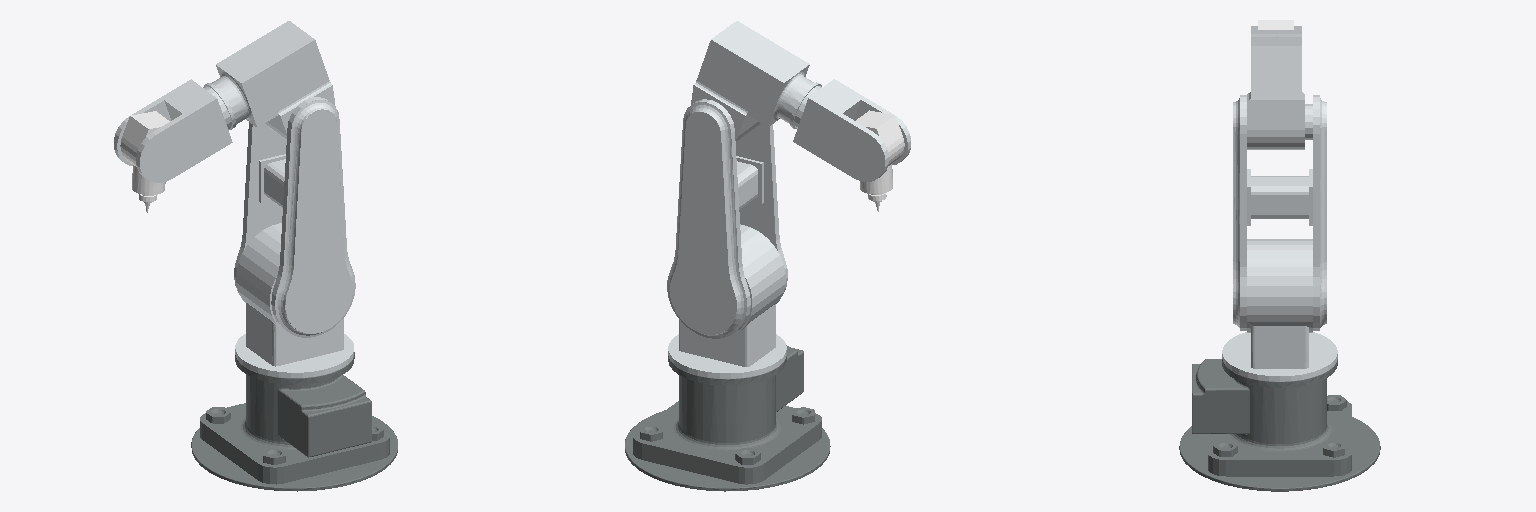
URDF robot description (assembly):
<?xml version="1.0" encoding="utf-8" ?>
<!-- This URDF was automatically created by SolidWorks to URDF Exporter! Originally created by [author] ([email redacted]) 
     Commit Version: 1.6.0-4-g7f85cfe  Build Version: 1.6.7995.38578
     For more information, please see http://wiki.ros.org/sw_urdf_exporter -->
<robot name="assembly">
    <link name="world" />
    <joint name="base_joint" type="fixed">
        <parent link="world" />
        <child link="base_link" />
        <origin rpy="0 0 0" xyz="0.0 0.0 0.17" />
    </joint>
    <link name="base_link">
        <inertial>
            <origin xyz="7.28821085427267E-09 -0.0312986108746524 0.0932096931732312" rpy="0 0 0" />
            <mass value="156.384128910965" />
            <inertia ixx="3.31161275817224" ixy="1.76037861498254E-07" ixz="4.56149719410909E-07" iyy="2.65331734095352" iyz="0.319657739922467" izz="3.8905939609168" />
        </inertial>
        <visual>
            <origin xyz="0 0 0" rpy="0 0 0" />
            <geometry>
                <mesh filename="package://assembly/meshes/base_link.STL" />
            </geometry>
            <material name="">
                <color rgba="0.529411764705882 0.549019607843137 0.549019607843137 1" />
            </material>
        </visual>
        <collision>
            <origin xyz="0 0 0" rpy="0 0 0" />
            <geometry>
                <mesh filename="package://assembly/meshes/base_link.STL" />
            </geometry>
        </collision>
    </link>
    <link name="link_1">
        <inertial>
            <origin xyz="1.56254648109311E-10 -7.8860200028437E-16 0.373075746734315" rpy="0 0 0" />
            <mass value="39.1896246119642" />
            <inertia ixx="0.759744390185537" ixy="-3.39614758921302E-09" ixz="3.42502037078622E-09" iyy="0.831766902274228" iyz="-5.07622894875523E-17" izz="0.295622833052641" />
        </inertial>
        <visual>
            <origin xyz="0 0 0" rpy="0 0 0" />
            <geometry>
                <mesh filename="package://assembly/meshes/link_1.STL" />
            </geometry>
            <material name="">
                <color rgba="0.898039215686275 0.917647058823529 0.929411764705882 1" />
            </material>
        </visual>
        <collision>
            <origin xyz="0 0 0" rpy="0 0 0" />
            <geometry>
                <mesh filename="package://assembly/meshes/link_1.STL" />
            </geometry>
        </collision>
    </link>
    <joint name="joint_1" type="revolute">
        <origin xyz="0 0 0" rpy="0 0 0" />
        <parent link="base_link" />
        <child link="link_1" />
        <axis xyz="0 0 1" />
        <limit lower="-3.142" upper="3.142" effort="300" velocity="3" />
    </joint>
    <link name="link_2">
        <inertial>
            <origin xyz="0 0.191560014270782 -4.38296331717335E-18" rpy="0 0 0" />
            <mass value="41.7432461481157" />
            <inertia ixx="1.9310205220817" ixy="-1.83315611639491E-16" ixz="4.05786478180328E-12" iyy="0.423793811309006" iyz="7.07949256278302E-17" izz="1.67596873799866" />
        </inertial>
        <visual>
            <origin xyz="0 0 0" rpy="0 0 0" />
            <geometry>
                <mesh filename="package://assembly/meshes/link_2.STL" />
            </geometry>
            <material name="">
                <color rgba="0.898039215686275 0.917647058823529 0.929411764705882 1" />
            </material>
        </visual>
        <collision>
            <origin xyz="0 0 0" rpy="0 0 0" />
            <geometry>
                <mesh filename="package://assembly/meshes/link_2.STL" />
            </geometry>
        </collision>
    </link>
    <joint name="joint_2" type="revolute">
        <origin xyz="0 0 0.496" rpy="1.5708 0 0" />
        <parent link="link_1" />
        <child link="link_2" />
        <axis xyz="0 0 1" />
        <limit lower="-1.57" upper="1.57" effort="200" velocity="3" />
    </joint>
    <link name="link_3">
        <inertial>
            <origin xyz="0.121182198441889 -0.136185998839769 -0.0100000000304142" rpy="0 0 0" />
            <mass value="32.5621952947336" />
            <inertia ixx="0.913688737120272" ixy="0.107723690437499" ixz="-1.2469518478925E-09" iyy="0.203128735188212" iyz="-2.19257304101205E-11" izz="1.00099194800661" />
        </inertial>
        <visual>
            <origin xyz="0 0 0" rpy="0 0 0" />
            <geometry>
                <mesh filename="package://assembly/meshes/link_3.STL" />
            </geometry>
            <material name="">
                <color rgba="0.898039215686275 0.917647058823529 0.929411764705882 1" />
            </material>
        </visual>
        <collision>
            <origin xyz="0 0 0" rpy="0 0 0" />
            <geometry>
                <mesh filename="package://assembly/meshes/link_3.STL" />
            </geometry>
        </collision>
    </link>
    <joint name="joint_3" type="revolute">
        <origin xyz="0 0.5 0" rpy="-3.1416 0 1.8978" />
        <parent link="link_2" />
        <child link="link_3" />
        <axis xyz="0 0 1" />
        <limit lower="-3.142" upper="0" effort="200" velocity="3" />
    </joint>
    <link name="link_4">
        <inertial>
            <origin xyz="4.894E-08 0.023871 0.01" rpy="0 0 0" />
            <mass value="2.1294" />
            <inertia ixx="0.01124" ixy="-3.2865E-09" ixz="2.2564E-09" iyy="0.0038688" iyz="8.7078E-11" izz="0.012163" />
        </inertial>
        <visual>
            <origin xyz="0 0 0" rpy="0 0 0" />
            <geometry>
                <mesh filename="package://assembly/meshes/link_4.STL" />
            </geometry>
            <material name="">
                <color rgba="1 1 1 1" />
            </material>
        </visual>
        <collision>
            <origin xyz="0 0 0" rpy="0 0 0" />
            <geometry>
                <mesh filename="package://assembly/meshes/link_4.STL" />
            </geometry>
        </collision>
    </link>
    <joint name="joint_4" type="revolute">
        <origin xyz="0.145 -0.42746 0" rpy="3.1416 0 -1.2438" />
        <parent link="link_3" />
        <child link="link_4" />
        <axis xyz="0 0 1" />
        <limit lower="-3.142" upper="0" effort="200" velocity="3" />
    </joint>
    <transmission name="link_1_trans">
        <type>transmission_interface/SimpleTransmission</type>
        <joint name="joint_1">
            <hardwareInterface>hardware_interface/PositionJointInterface</hardwareInterface>
        </joint>
        <actuator name="link_1_motor">
            <hardwareInterface>hardware_interface/PositionJointInterface</hardwareInterface>
            <mechanicalReduction>1</mechanicalReduction>
        </actuator>
    </transmission>
    <transmission name="link_2_trans">
        <type>transmission_interface/SimpleTransmission</type>
        <joint name="joint_2">
            <hardwareInterface>hardware_interface/PositionJointInterface</hardwareInterface>
        </joint>
        <actuator name="link_2_motor">
            <hardwareInterface>hardware_interface/PositionJointInterface</hardwareInterface>
            <mechanicalReduction>1</mechanicalReduction>
        </actuator>
    </transmission>
    <transmission name="link_3_trans">
        <type>transmission_interface/SimpleTransmission</type>
        <joint name="joint_3">
            <hardwareInterface>hardware_interface/PositionJointInterface</hardwareInterface>
        </joint>
        <actuator name="link_3_motor">
            <hardwareInterface>hardware_interface/PositionJointInterface</hardwareInterface>
            <mechanicalReduction>1</mechanicalReduction>
        </actuator>
    </transmission>
    <transmission name="link_4_trans">
        <type>transmission_interface/SimpleTransmission</type>
        <joint name="joint_4">
            <hardwareInterface>hardware_interface/PositionJointInterface</hardwareInterface>
        </joint>
        <actuator name="link_4_motor">
            <hardwareInterface>hardware_interface/PositionJointInterface</hardwareInterface>
            <mechanicalReduction>1</mechanicalReduction>
        </actuator>
    </transmission>
    <!-- Paso 5 -->
    <gazebo>
        <plugin name="control" filename="libgazebo_ros_control.so">
            <robotNamespace>/</robotNamespace>
        </plugin>
        <plugin name="gazebo_ros_control" filename="libgazebo_ros_control.so">
            <robotNamespace>/</robotNamespace>
        </plugin>
    </gazebo>
    <!-- Paso 6 -->
    <gazebo reference="link_1">
        <selfCollide>true</selfCollide>
    </gazebo>
    <gazebo reference="link_2">
        <selfCollide>true</selfCollide>
    </gazebo>
    <gazebo reference="link_3">
        <selfCollide>true</selfCollide>
    </gazebo>
    <gazebo reference="link_4">
        <selfCollide>true</selfCollide>
    </gazebo>
</robot>

--- What the picture shows (computed from the rendered views, not written in the file) ---
3 views of the same robot in one strip: view 1: azimuth 30°, elevation 25°; view 2: azimuth 150°, elevation 25°; view 3: azimuth 270°, elevation 25° (orthographic).
Model assembly with 6 links and 5 joints (4 revolute, 1 fixed), rooted at world, posed all joints at 0.
Links seen in each view (by area): view 1: link_2, base_link, link_3, link_1, link_4; view 2: base_link, link_2, link_3, link_1, link_4; view 3: base_link, link_1, link_2, link_3.
Boxes of the visible links, x1,y1,x2,y2 form: link_2: (234,97,355,337); base_link: (191,352,397,491); link_3: (114,21,335,182); link_1: (235,223,353,377); link_4: (120,111,169,212); base_link: (625,345,830,491); link_2: (667,99,787,338); link_3: (691,21,910,181); link_1: (668,224,786,378); link_4: (856,110,904,211); base_link: (1179,359,1380,491); link_1: (1222,239,1337,381); link_2: (1233,95,1326,330); link_3: (1247,26,1304,149).
Bounding box of the posed robot: 0.8035 × 0.555 × 1.23 m (x, y, z).
Meshes: 5 distinct files referenced, 5 mesh visuals loaded (5 binary STL).
